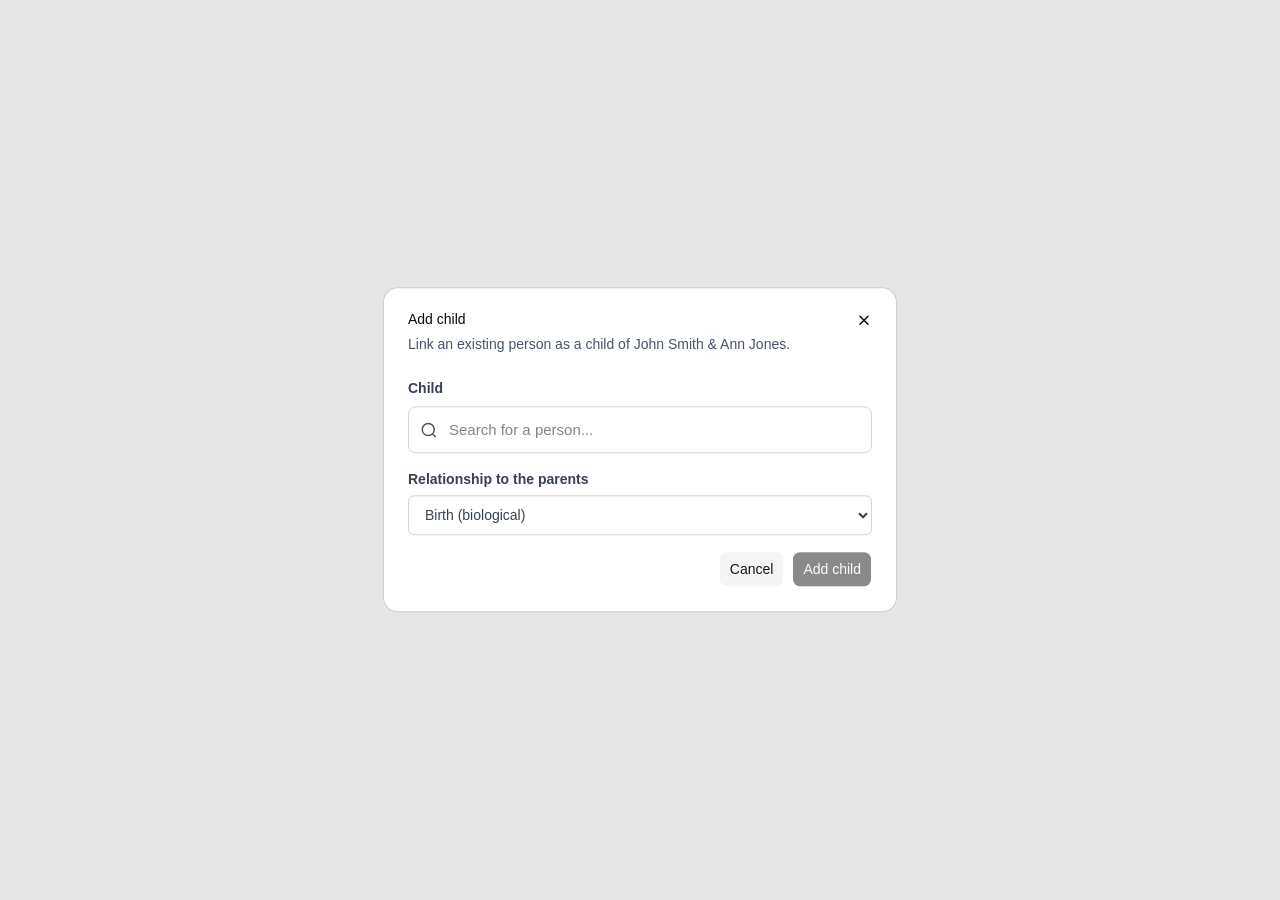
Test: AddChildDialog › shows a refusal in the dialog and does not report success
In the dropdown named "Child": (640, 430) [408,406,872,454], type "Smith"
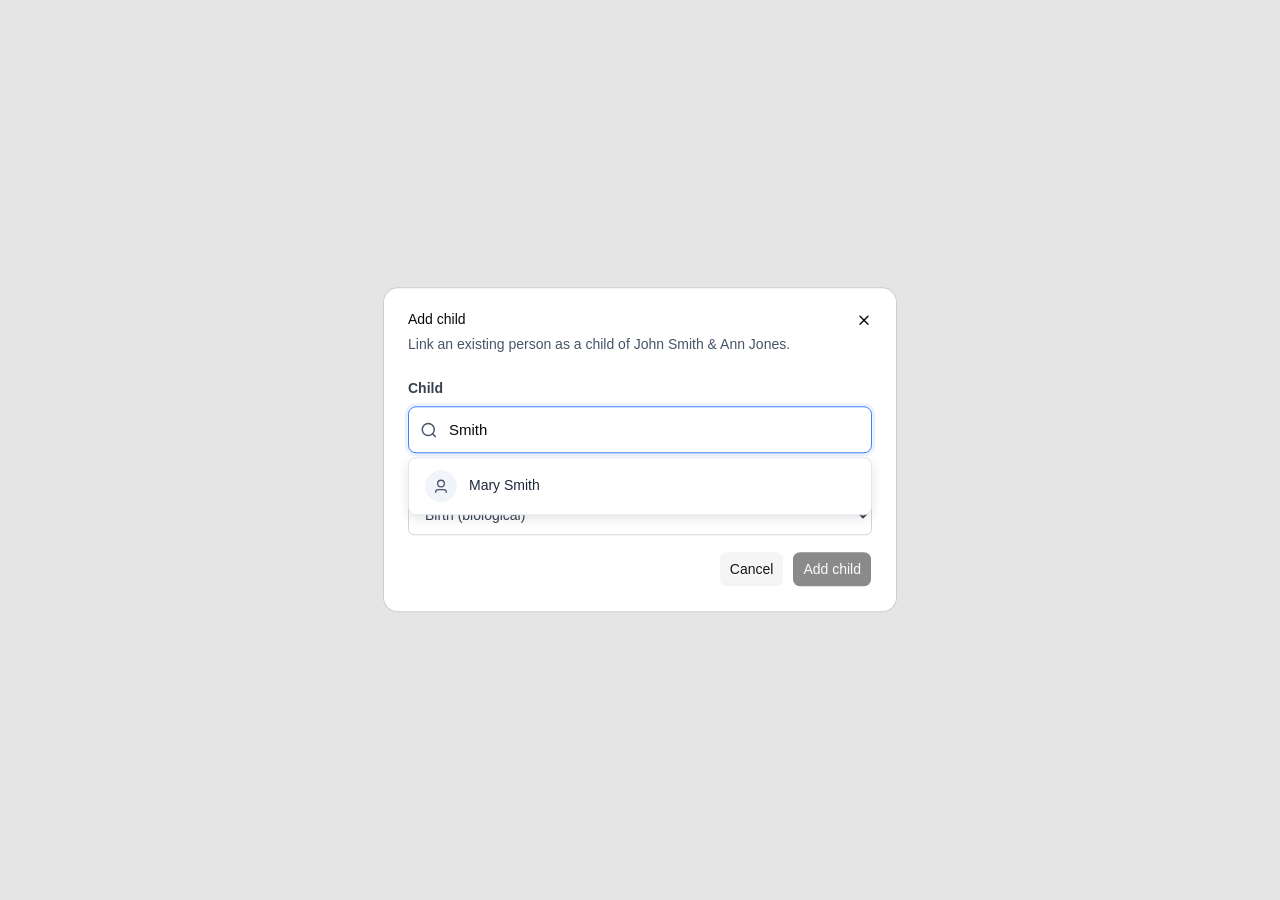
Click the option "Mary Smith": (441, 487) [409,459,871,515]
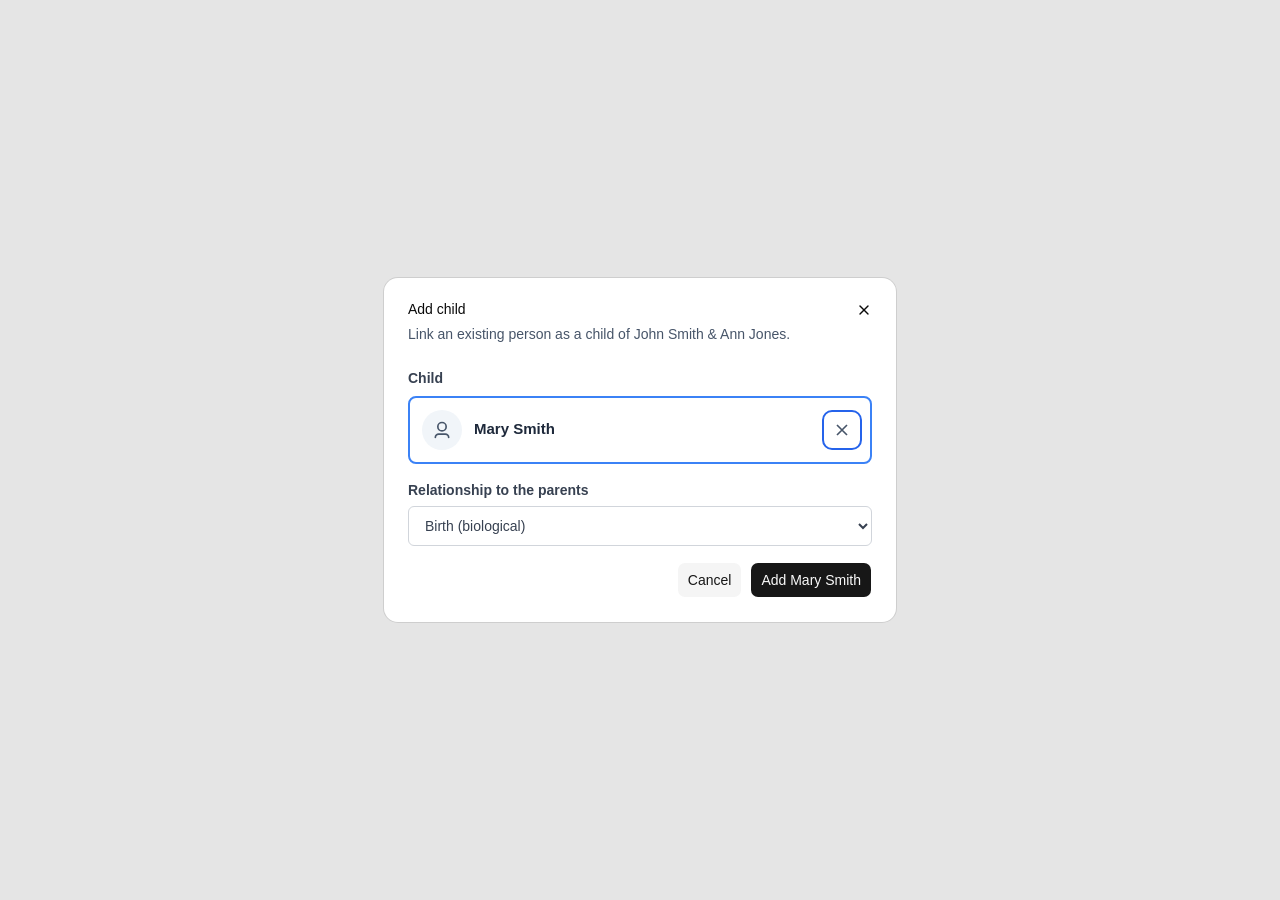
Click the button "Add Mary Smith": (811, 580) [750,562,872,598]
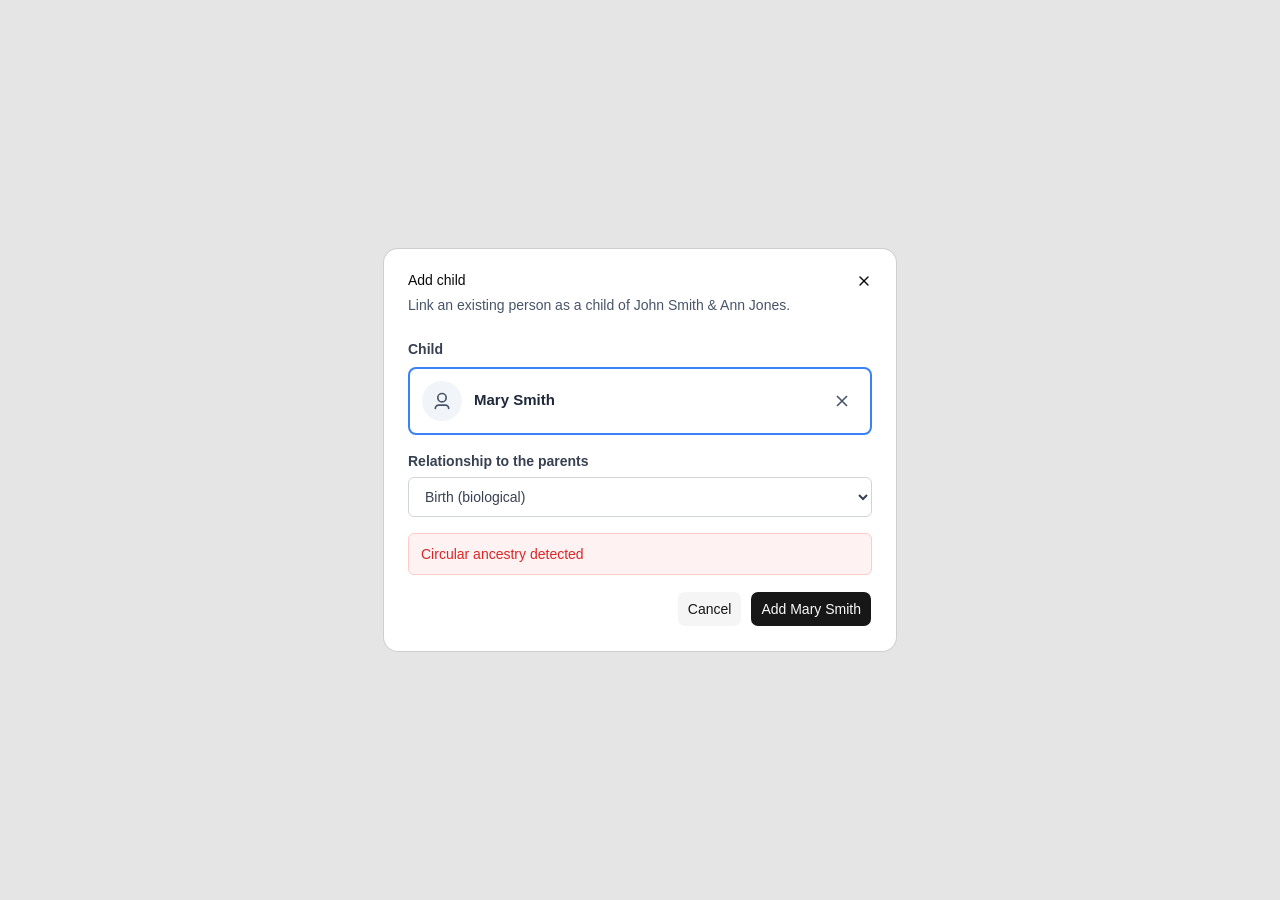
Check: the dialog is shown, box [384,249,896,651]
Check: the message reads "Circular ancestry detected", box [421,546,584,562]
